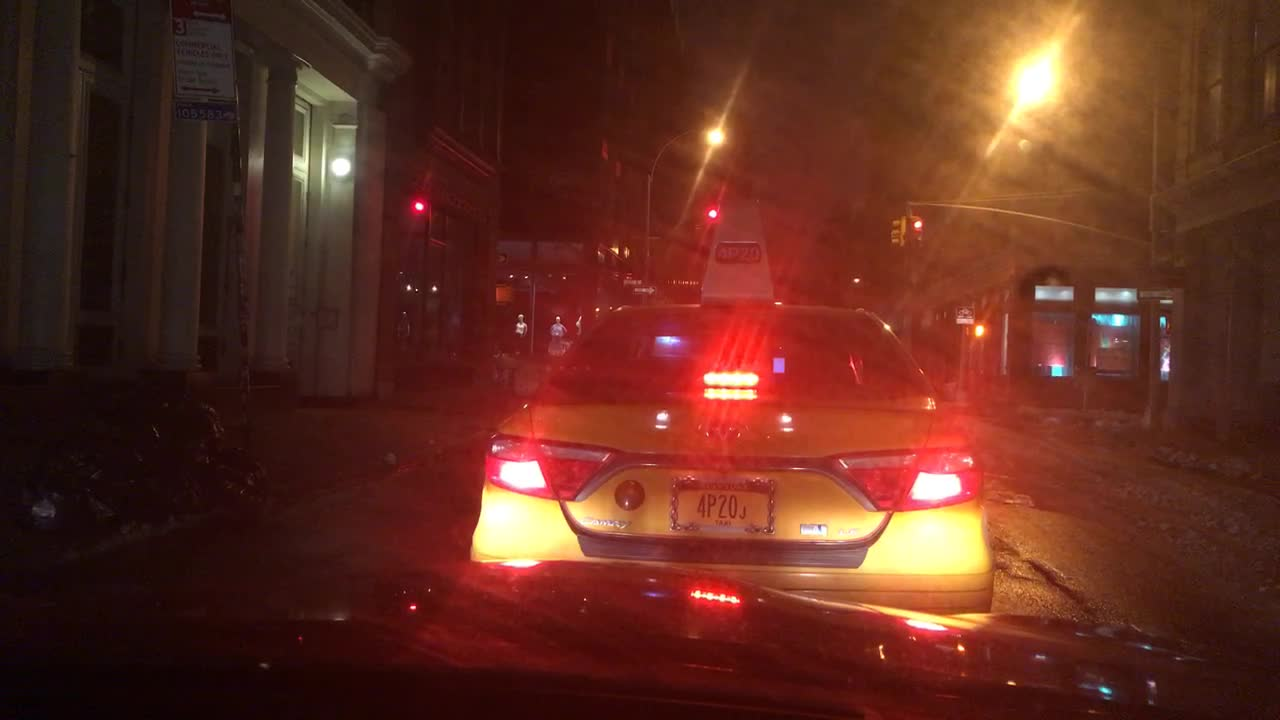car: (468, 203, 993, 621)
traffic light: (891, 216, 905, 247), (912, 217, 925, 248), (707, 207, 719, 230), (413, 199, 425, 220), (1159, 315, 1171, 331), (973, 324, 987, 337)
traffic sign: (171, 7, 235, 127), (1135, 288, 1176, 297), (953, 306, 973, 323), (636, 286, 655, 296), (624, 275, 645, 284)
